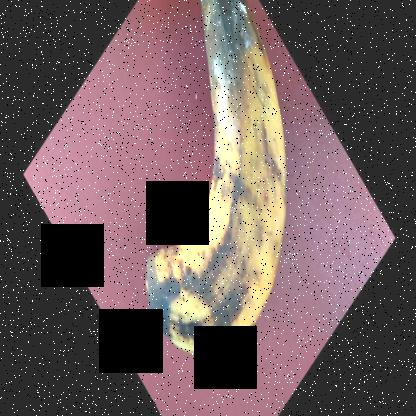rotten: (137, 1, 320, 373)
